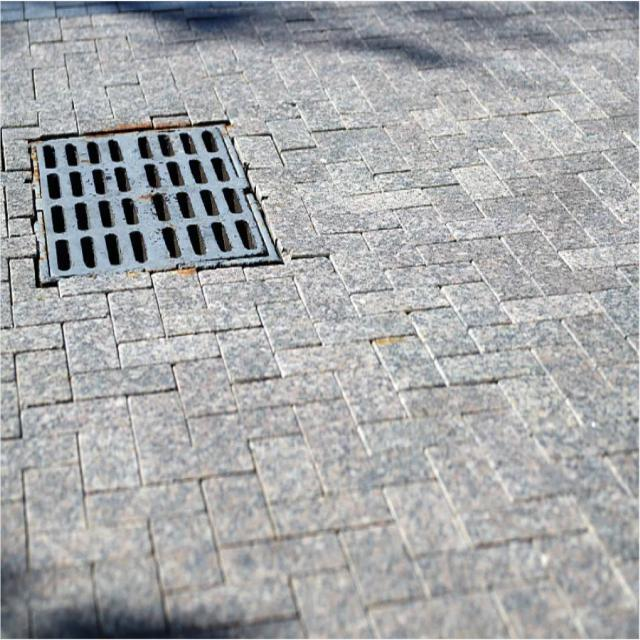manhole: (32, 125, 279, 282)
